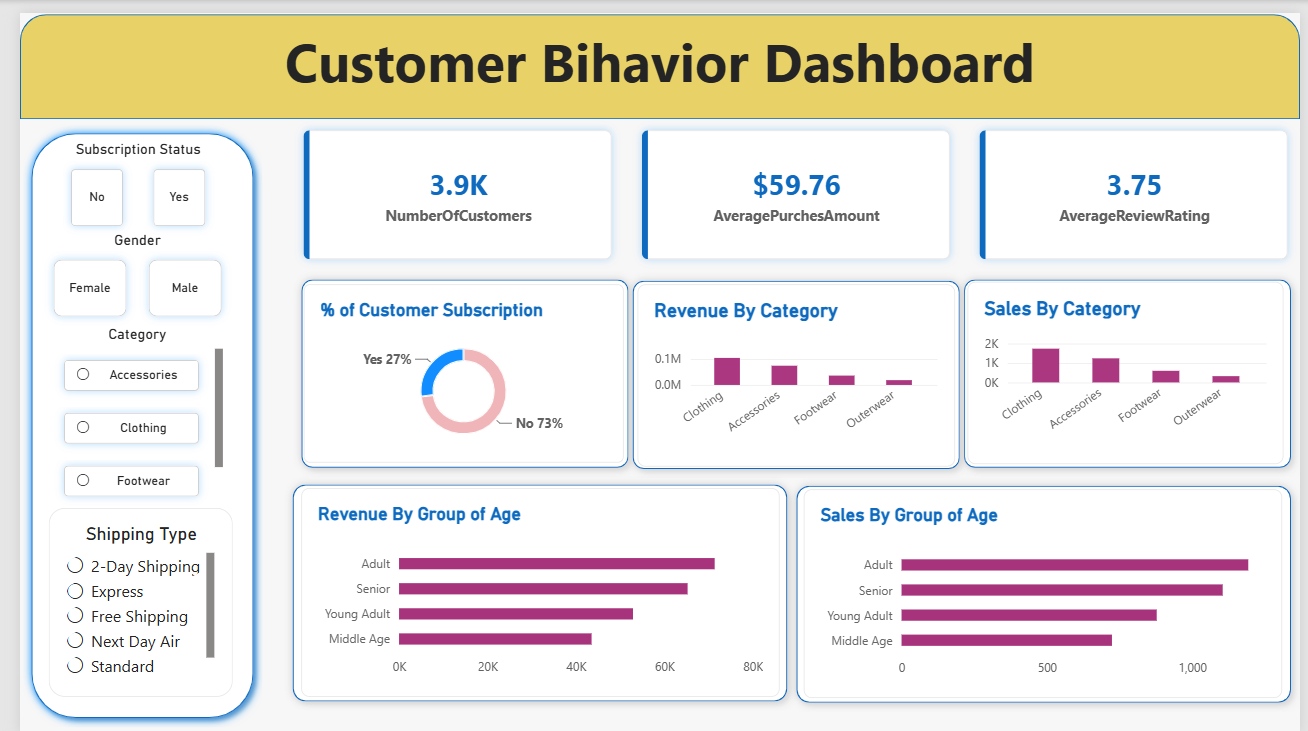

This screenshot's page, from the dashboard's own definition file:
{"tool":"powerbi","page":{"name":"Page 1","canvas":[1280,720],"ordinal":0},"visuals":[{"type":"cardVisual","fields":{"Data":["customer_shopping.NumberOfCustomers","customer_shopping.AveragePurchesAmount","customer_shopping.AverageReviewRating"]},"box":[272.9,105.7,1007.1,151.4],"z":0},{"type":"shape","box":[0,1.2,1280,105],"z":1000},{"type":"shape","box":[272.5,257.5,345,206.2],"z":2000},{"type":"donutChart","title":"% of Customer Subscription","fields":{"Category":["customer_shopping.Subscription Status"],"Y":["CountNonNull(customer_shopping.Customer ID)"]},"box":[283.8,271.2,320,178.8],"z":3000},{"type":"textbox","box":[0,11.2,1280,80],"z":4000},{"type":"shape","box":[935,257.5,345,206.2],"z":5000},{"type":"shape","box":[603.8,258.8,345,206.2],"z":6000},{"type":"clusteredColumnChart","title":"Revenue By Category","fields":{"Category":["customer_shopping.Category"],"Y":["Sum(customer_shopping.Purchase Amount (USD))"]},"box":[617.5,271.2,317.5,182.5],"z":7000},{"type":"clusteredColumnChart","title":"Sales By Category","fields":{"Category":["customer_shopping.Category"],"Y":["CountNonNull(customer_shopping.Customer ID)"]},"box":[947.5,268.8,316.2,182.5],"z":8000},{"type":"shape","box":[2.9,111.4,240,602.9],"z":9000},{"type":"advancedSlicerVisual","fields":{"Values":["customer_shopping.Subscription Status"]},"box":[40,127.5,156.2,97.5],"z":10000},{"type":"advancedSlicerVisual","fields":{"Values":["customer_shopping.Gender"]},"box":[22.5,218.8,190,96.2],"z":11000},{"type":"advancedSlicerVisual","fields":{"Values":["customer_shopping.Category"]},"box":[32.5,312.5,170,182.5],"z":12000},{"type":"listSlicer","fields":{"Values":["customer_shopping.Shipping Type"]},"box":[28.8,495,183.8,188.8],"z":13000},{"type":"shape","box":[263.8,462.5,512.5,235],"z":14000},{"type":"shape","box":[767.5,463.8,512.5,235],"z":15000},{"type":"clusteredBarChart","title":"Revenue By Group of Age","fields":{"Category":["customer_shopping.Age Group"],"Y":["Sum(customer_shopping.Purchase Amount (USD))"]},"box":[281.2,475,478.8,208.8],"z":16000},{"type":"clusteredBarChart","title":"Sales By Group of Age","fields":{"Category":["customer_shopping.Age Group"],"Y":["CountNonNull(customer_shopping.Customer ID)"]},"box":[783.8,476.2,478.8,208.8],"z":16001}]}

Visuals, with their boxes in screenshot pixels (x1, y1, x2, y2), scaled from the page's 1280x720 canvas onto the 1308x731 screenshot:
cardVisual - customer_shopping.NumberOfCustomers x customer_shopping.AveragePurchesAmount: <box>279,107,1307,261</box>
shape: <box>0,1,1307,108</box>
shape: <box>278,261,631,471</box>
"% of Customer Subscription" donutChart: <box>290,275,617,457</box>
textbox: <box>0,11,1307,93</box>
shape: <box>955,261,1307,471</box>
shape: <box>617,263,970,472</box>
"Revenue By Category" clusteredColumnChart: <box>631,275,955,461</box>
"Sales By Category" clusteredColumnChart: <box>968,273,1291,458</box>
shape: <box>3,113,248,725</box>
advancedSlicerVisual - customer_shopping.Subscription Status: <box>41,129,200,228</box>
advancedSlicerVisual - customer_shopping.Gender: <box>23,222,217,320</box>
advancedSlicerVisual - customer_shopping.Category: <box>33,317,207,503</box>
listSlicer - customer_shopping.Shipping Type: <box>29,503,217,694</box>
shape: <box>270,470,793,708</box>
shape: <box>784,471,1307,709</box>
"Revenue By Group of Age" clusteredBarChart: <box>287,482,777,694</box>
"Sales By Group of Age" clusteredBarChart: <box>801,483,1290,695</box>
